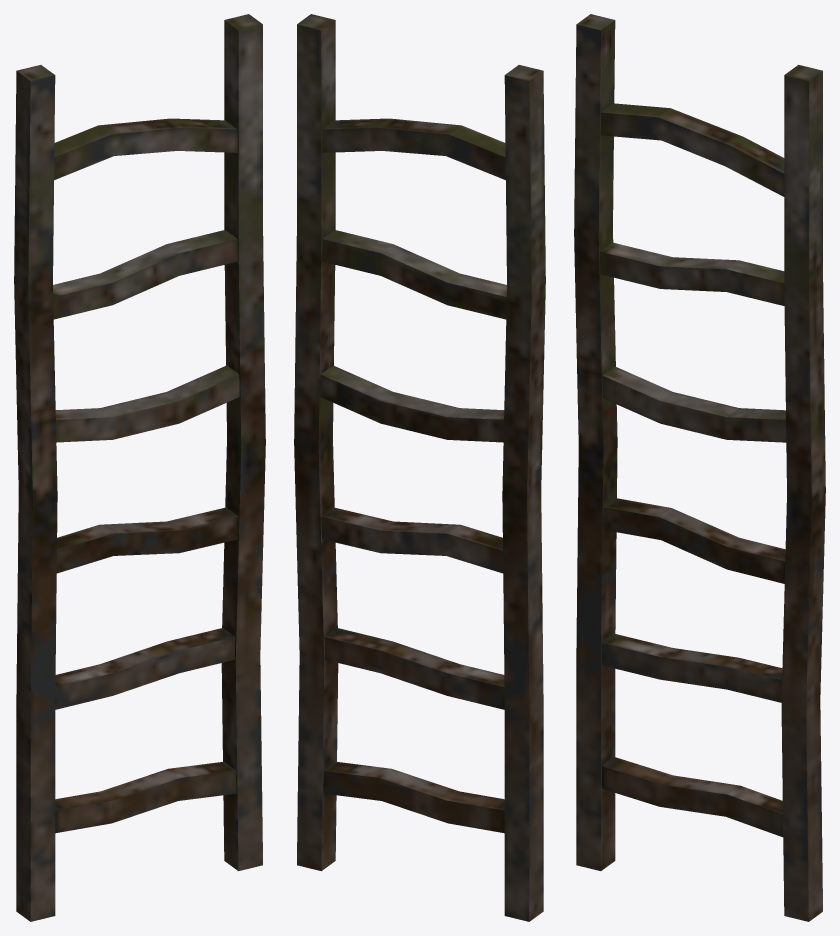
Rendered from Ladder.fbx.
3 views of the same model, side by side, from view 1: azimuth 30°, elevation 25°; view 2: azimuth 150°, elevation 25°; view 3: azimuth 330°, elevation 25° (orthographic).
Parts seen in each view (by area): view 1: ledder; view 2: ledder; view 3: ledder.
Boxes of the visible parts, x1,y1,x2,y2 form: ledder: (14, 14, 265, 921); ledder: (294, 14, 545, 921); ledder: (574, 14, 825, 921).
Size of the model in its own units: 77.62 by 263 by 8.05.
Materials: 1 (1 with a texture image).
